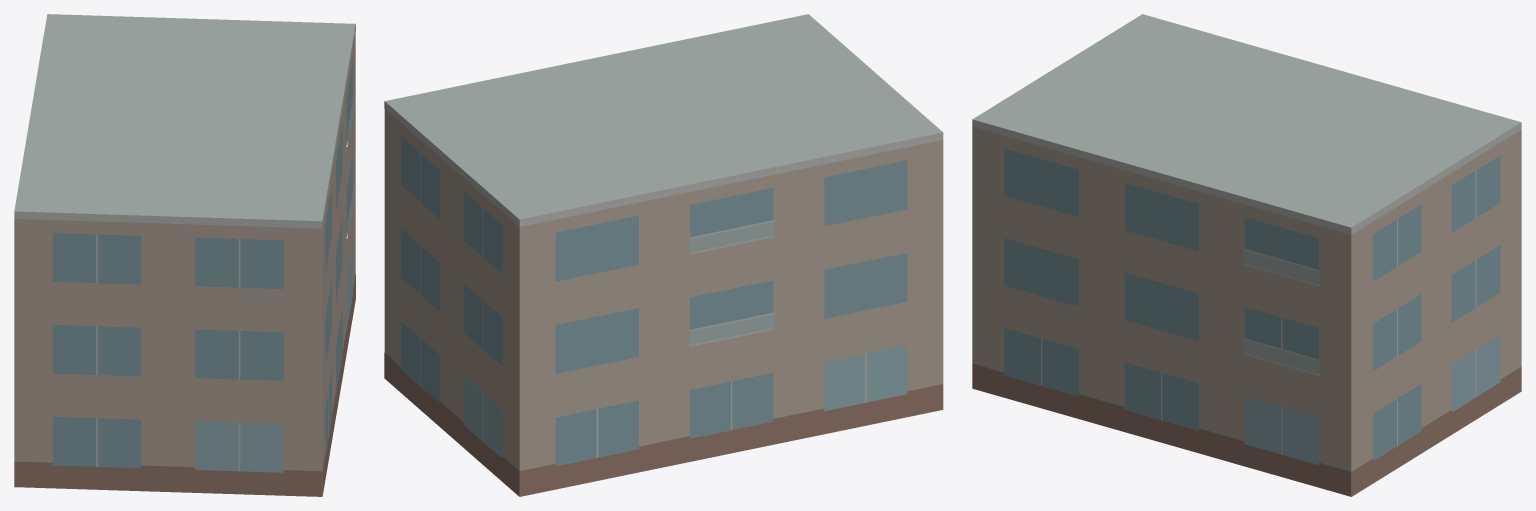
Rendered from survey-upis-32706675.glb.
3 renders of one model, left to right at view 1: azimuth 30°, elevation 25°; view 2: azimuth 150°, elevation 25°; view 3: azimuth 270°, elevation 25°, orthographic. The views are drawn at different scales.
Parts seen in each view (by area): view 1: survey-upis-32706675.tmp; view 2: survey-upis-32706675.tmp; view 3: survey-upis-32706675.tmp.
Boxes of the visible parts, x1,y1,x2,y2 form: survey-upis-32706675.tmp: [14, 14, 355, 496]; survey-upis-32706675.tmp: [384, 14, 943, 496]; survey-upis-32706675.tmp: [972, 14, 1521, 496].
Size of the model in its own units: 15.59 by 9.15 by 16.93.
